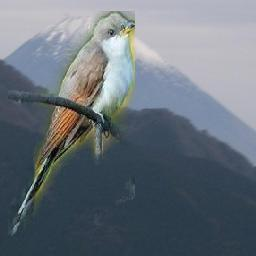Cuckoo: (9, 12, 136, 239)
